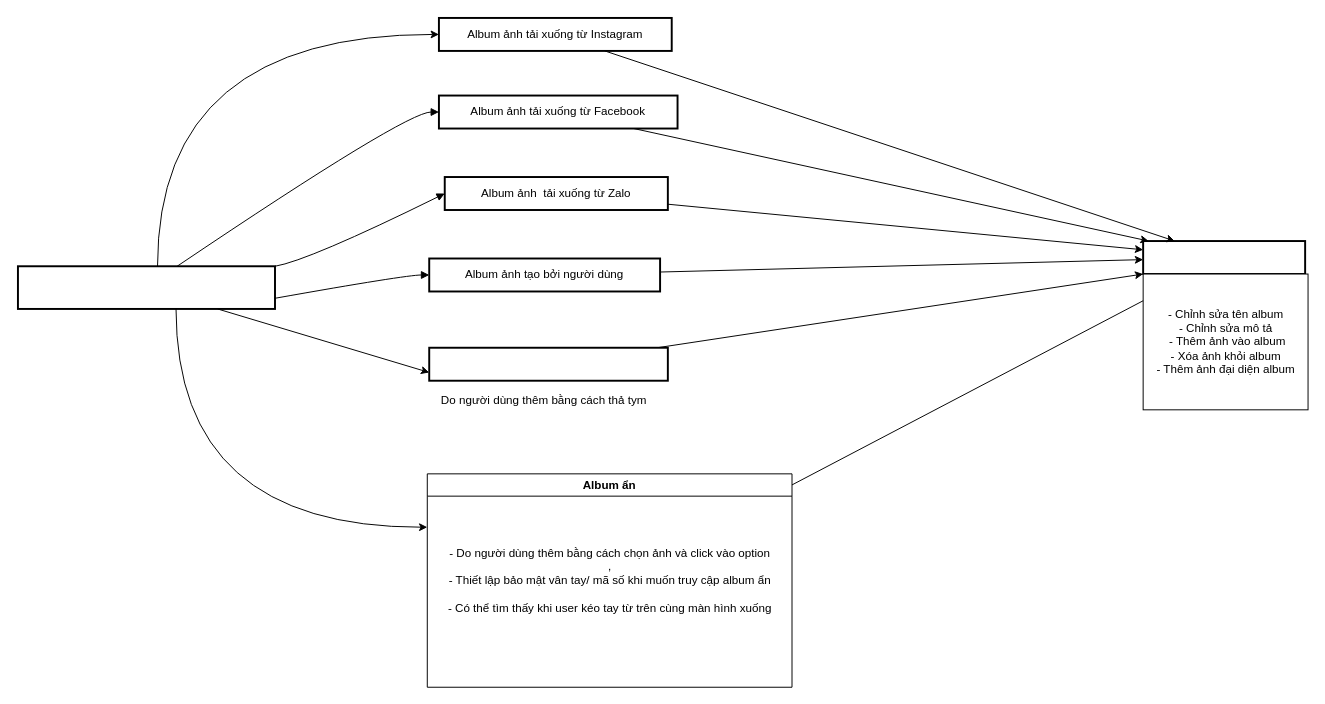
Some shapes in this 1325 by 704 pixel diagram are drawn without their labels. Here are the shapes that lost their labels. From the top down, the box of each, then its label:
(1142, 240, 1306, 275): Chỉnh sửa album ảnh
(16, 265, 275, 309): Tổ chức ảnh theo album
(428, 346, 668, 381): Album ảnh yêu thích
